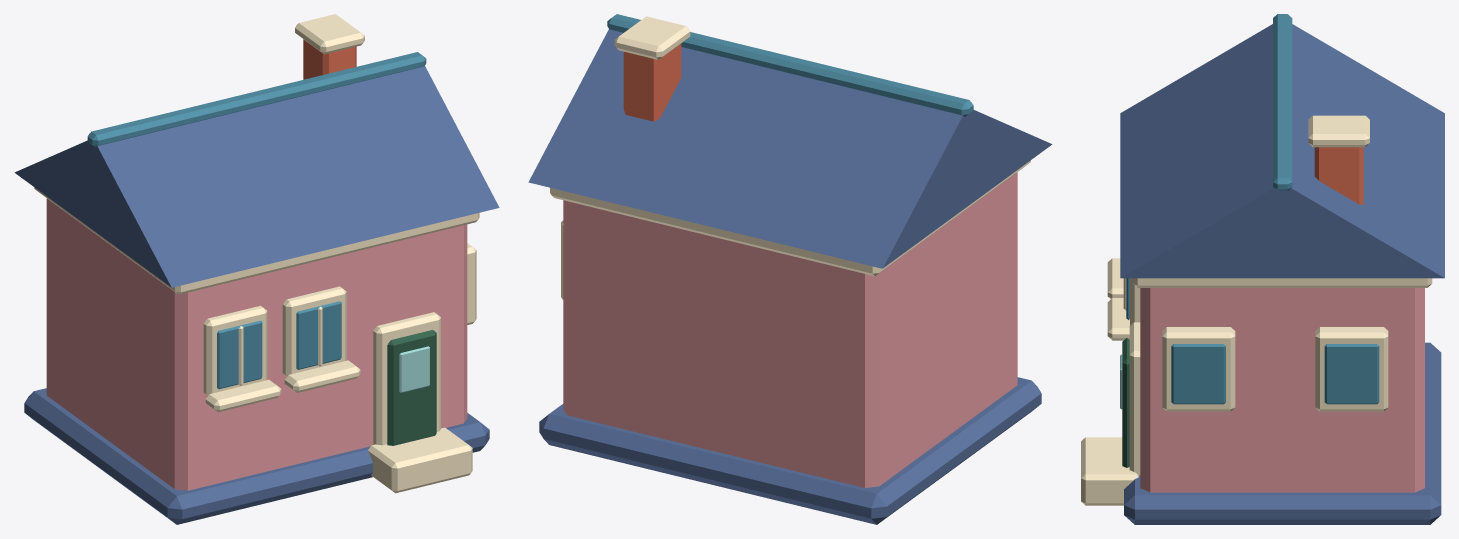
Rendered from house.fbx.
3 views of the same model, side by side, from view 1: azimuth 30°, elevation 25°; view 2: azimuth 150°, elevation 25°; view 3: azimuth 270°, elevation 25° (orthographic). The views are drawn at different scales.
Parts seen in each view (by area): view 1: Painted facade, Blue gable roof, Stone foundation, Ridge cap, Door step, Door, Door frame, Cornice, Window glass.001, Window glass, Window frame.001, Window frame (+6 smaller); view 2: Painted facade, Blue gable roof, Stone foundation, Ridge cap, Cornice, Brick chimney, Chimney cap; view 3: Blue gable roof, Painted facade, Stone foundation, Ridge cap, Side window.001, Side window, Door step, Side frame.001, Side frame, Cornice, Brick chimney, Chimney cap (+5 smaller).
Boxes of the visible parts, x1,y1,x2,y2 form: Painted facade: (46,198,467,490); Blue gable roof: (14,66,499,287); Stone foundation: (24,388,489,524); Ridge cap: (87,52,426,146); Door step: (368,427,472,493); Door: (387,330,436,445); Door frame: (373,312,440,445); Cornice: (34,187,479,294); Window glass.001: (296,301,341,369); Window glass: (217,320,262,388); Window frame.001: (282,286,346,376); Window frame: (203,305,267,395); Painted facade: (563,172,1017,487); Blue gable roof: (528,29,1052,268); Stone foundation: (539,377,1041,524); Ridge cap: (607,14,973,116); Cornice: (550,160,1030,276); Brick chimney: (623,44,681,121); Chimney cap: (614,16,690,59); Blue gable roof: (1120,24,1444,278); Painted facade: (1140,288,1424,492); Stone foundation: (1124,342,1441,524); Ridge cap: (1273,14,1292,190); Side window.001: (1324,344,1379,404); Side window: (1171,344,1225,404); Door step: (1081,437,1138,505); Side frame.001: (1315,327,1388,411); Side frame: (1162,327,1235,411); Cornice: (1133,278,1432,287); Brick chimney: (1314,147,1363,205); Chimney cap: (1308,115,1369,147).
Bounding box in the file's own units: 218 × 227 × 200.
